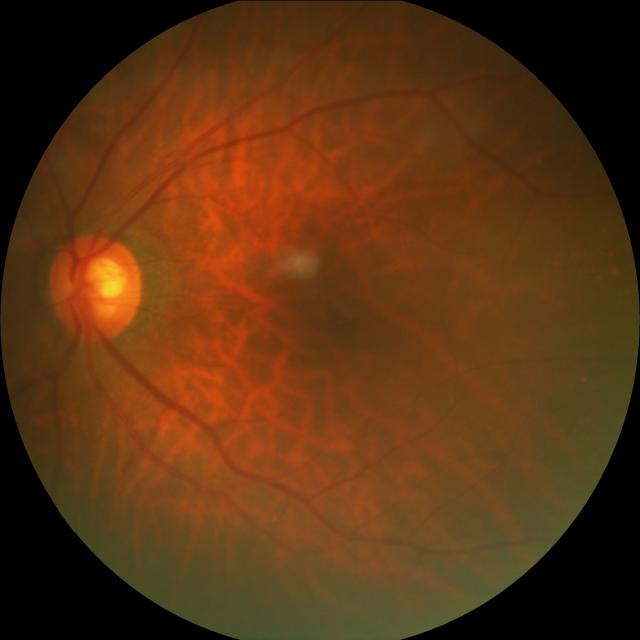OC: (71, 255, 128, 317)
OD: (48, 230, 146, 340)
